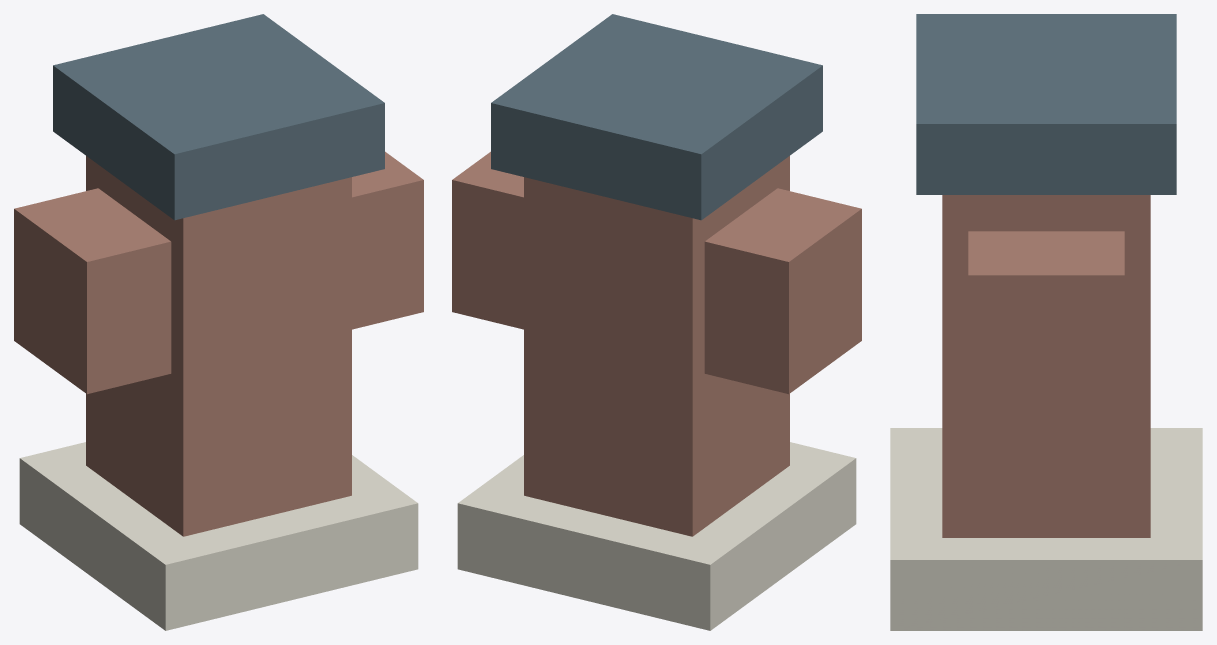
The model's file is voxel-city-districts-fire-hydrant-04ac7d3a.glb.
The picture shows the model from 3 angles, left to right: view 1: azimuth 30°, elevation 25°; view 2: azimuth 150°, elevation 25°; view 3: azimuth 270°, elevation 25°; orthographic projection. The views are drawn at different scales.
Parts seen in each view (by area): view 1: fire-hydrant-roof, fire-hydrant-dark, fire-hydrant-concrete; view 2: fire-hydrant-roof, fire-hydrant-dark, fire-hydrant-concrete; view 3: fire-hydrant-roof, fire-hydrant-dark, fire-hydrant-concrete.
Part boxes in pixels (x1=…): fire-hydrant-roof: x1=14, y1=151, x2=423, y2=536; fire-hydrant-dark: x1=53, y1=14, x2=384, y2=220; fire-hydrant-concrete: x1=19, y1=442, x2=418, y2=630; fire-hydrant-roof: x1=452, y1=151, x2=861, y2=536; fire-hydrant-dark: x1=491, y1=14, x2=822, y2=220; fire-hydrant-concrete: x1=457, y1=442, x2=856, y2=630; fire-hydrant-roof: x1=942, y1=195, x2=1150, y2=537; fire-hydrant-dark: x1=916, y1=14, x2=1176, y2=194; fire-hydrant-concrete: x1=890, y1=428, x2=1202, y2=630.
Bounding box in the file's own units: 0.8 × 1.05 × 0.6.
